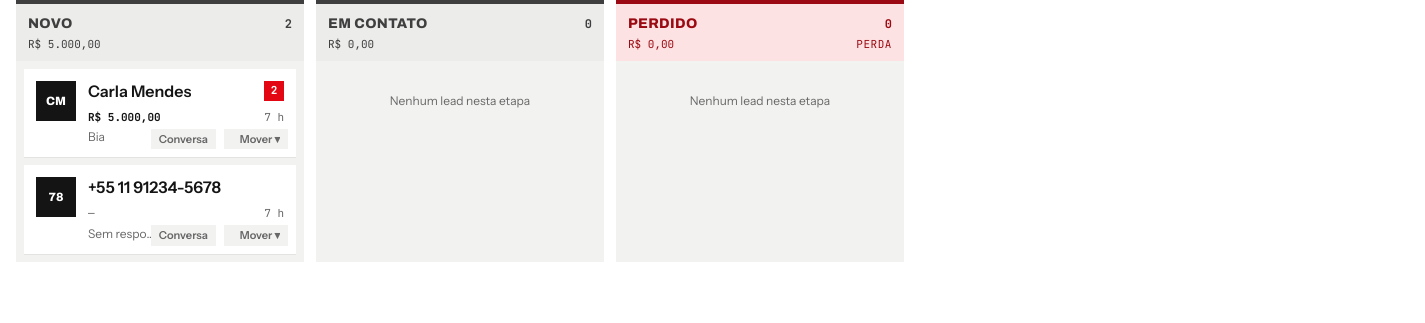
Test: Board › puts the card back and explains when the server refuses
The width and height of the screenshot is (1425, 323).
Select "Em contato" in the 1st dropdown named "Mover Carla Mendes para". click: coordinates (256, 139)
box: [224,128,288,149]
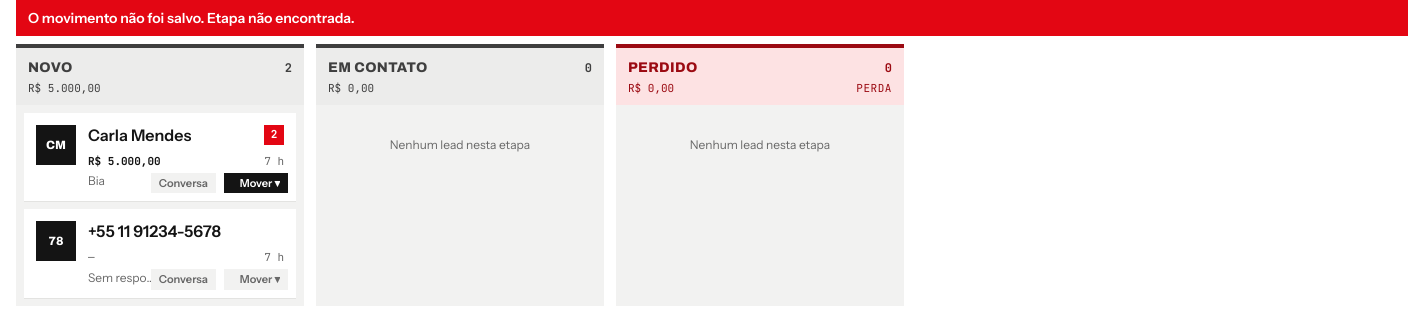
Expected: the message reads "O movimento não foi salvo. Etapa não encontrada.", [28,9,354,27]
